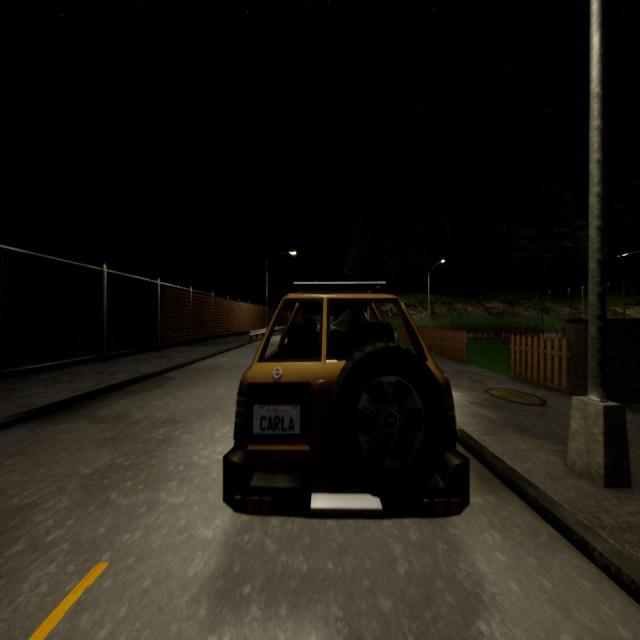Vehicle: (223, 282, 469, 516)
